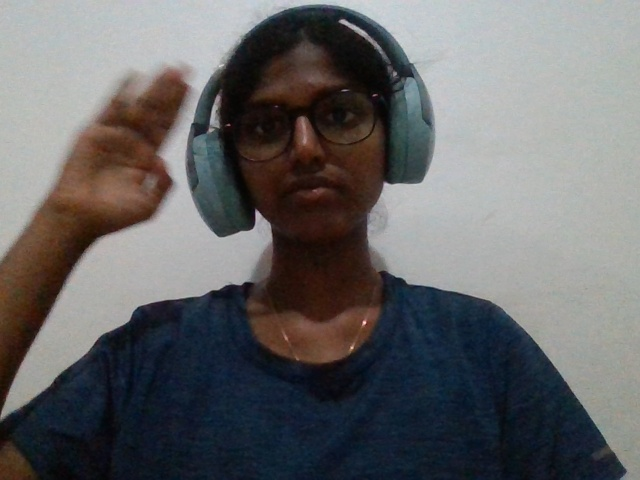Hello: (36, 41, 224, 264)
